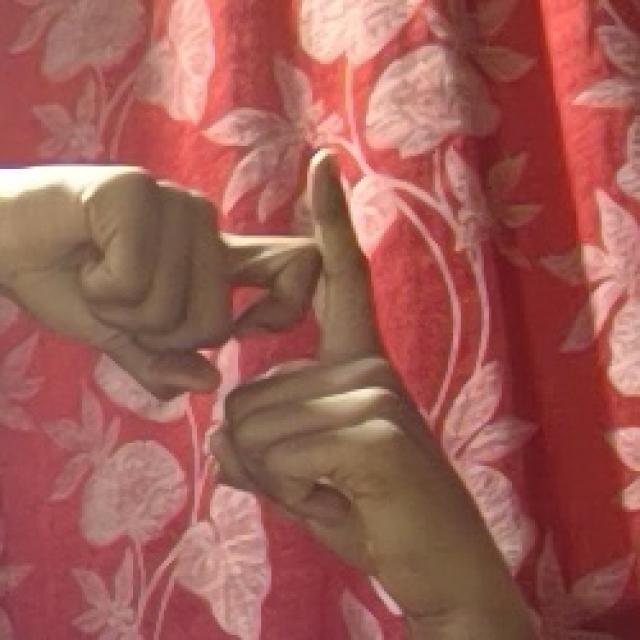Alphabet-K: (2, 145, 477, 627)
